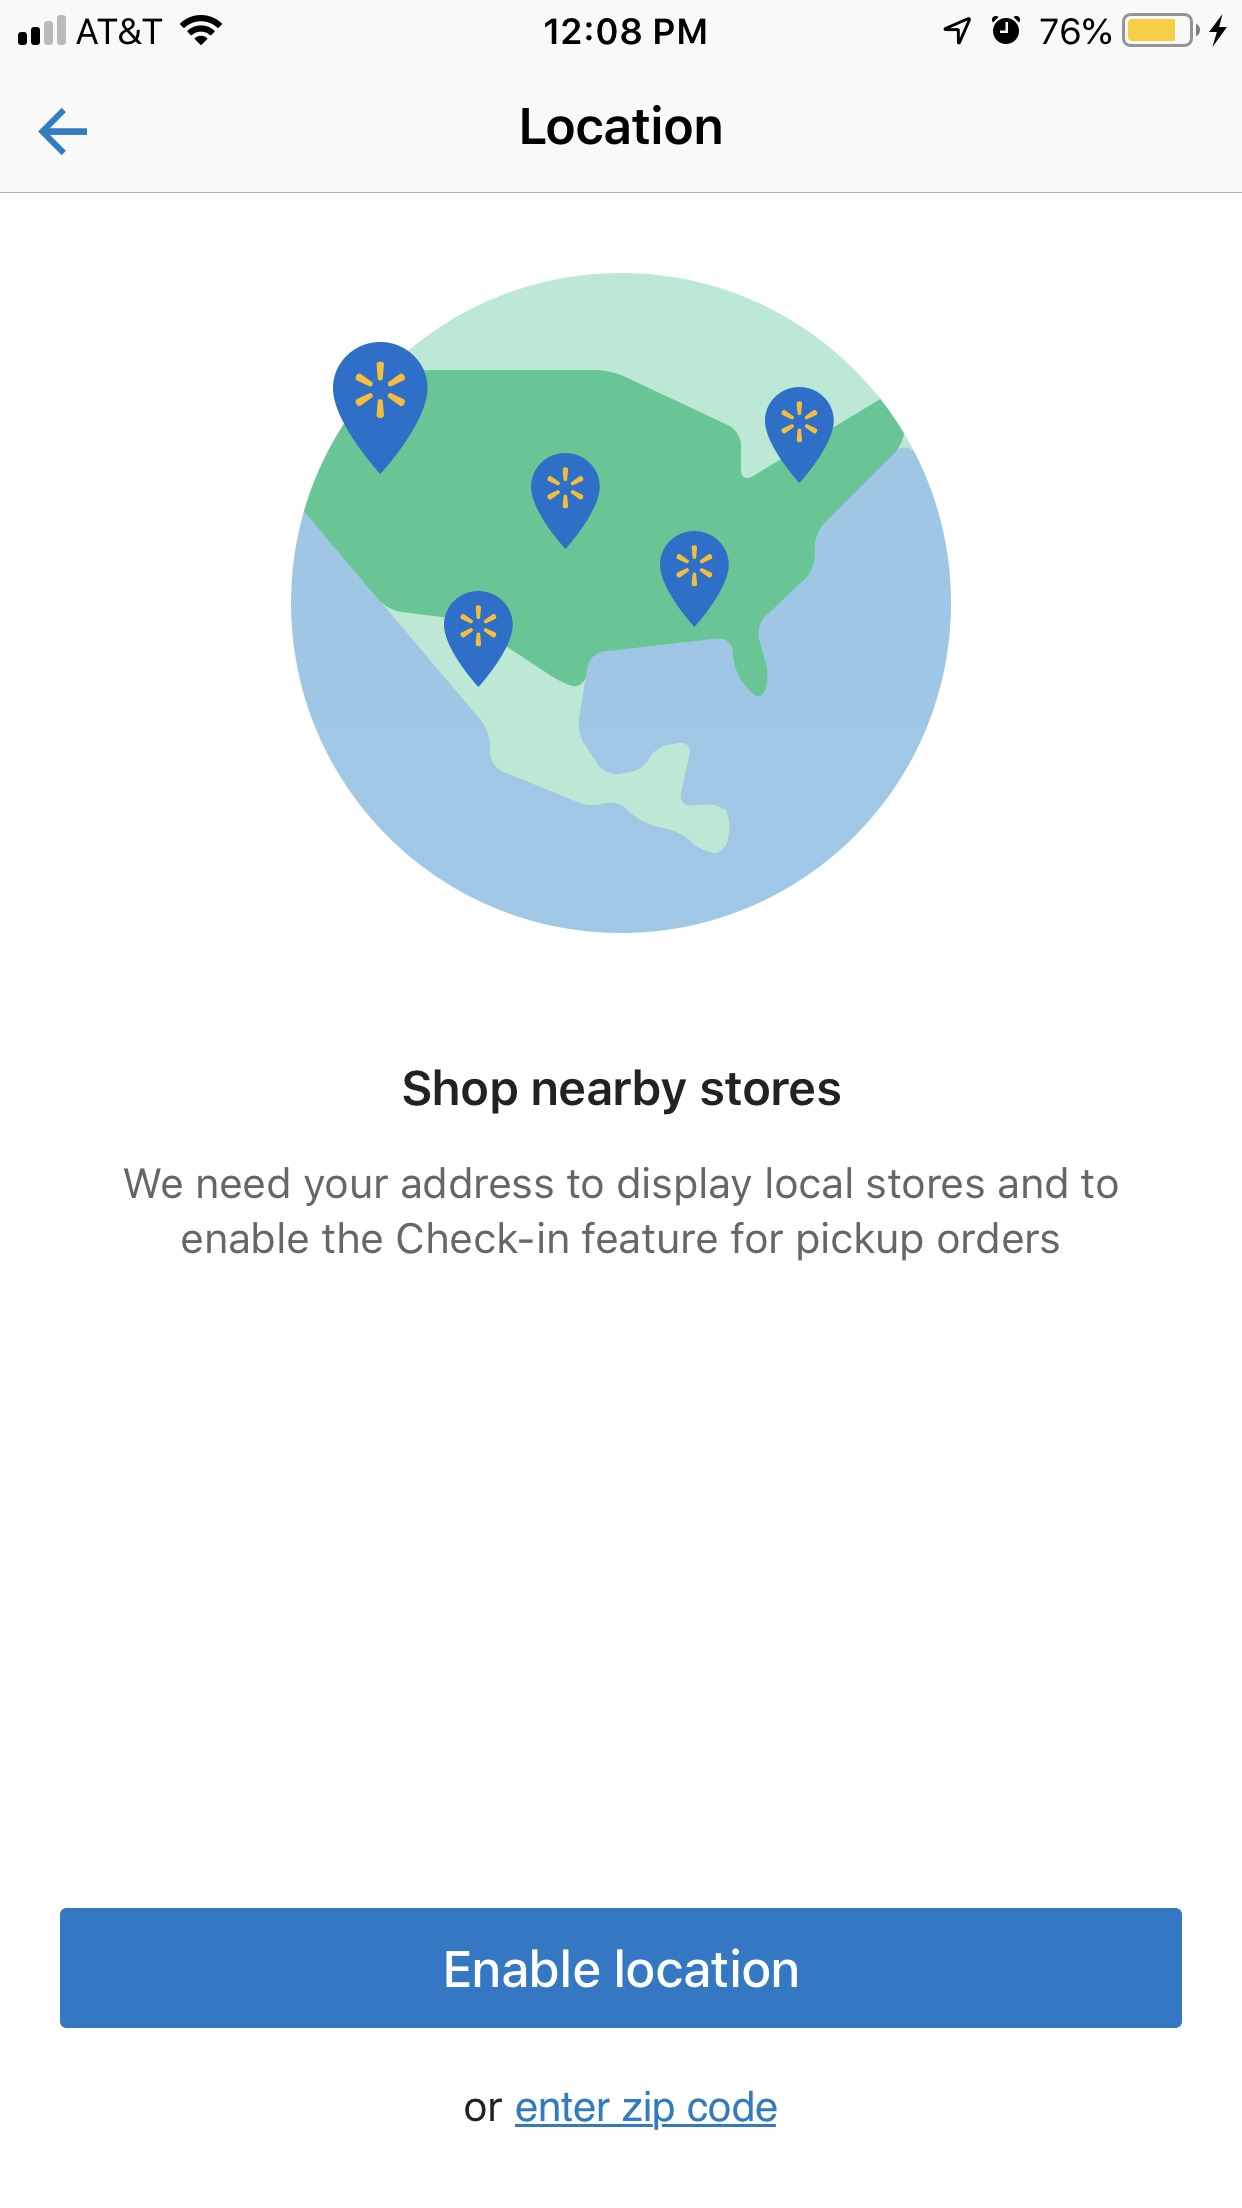Icon: (38, 108, 89, 158)
Image: (291, 273, 952, 936)
Text: (124, 1166, 1118, 1262), (403, 1068, 842, 1116), (466, 2090, 778, 2131), (522, 105, 722, 153)
TextButton: (61, 1908, 1183, 2029)
UpperTaskBar: (2, 2, 1242, 49)
